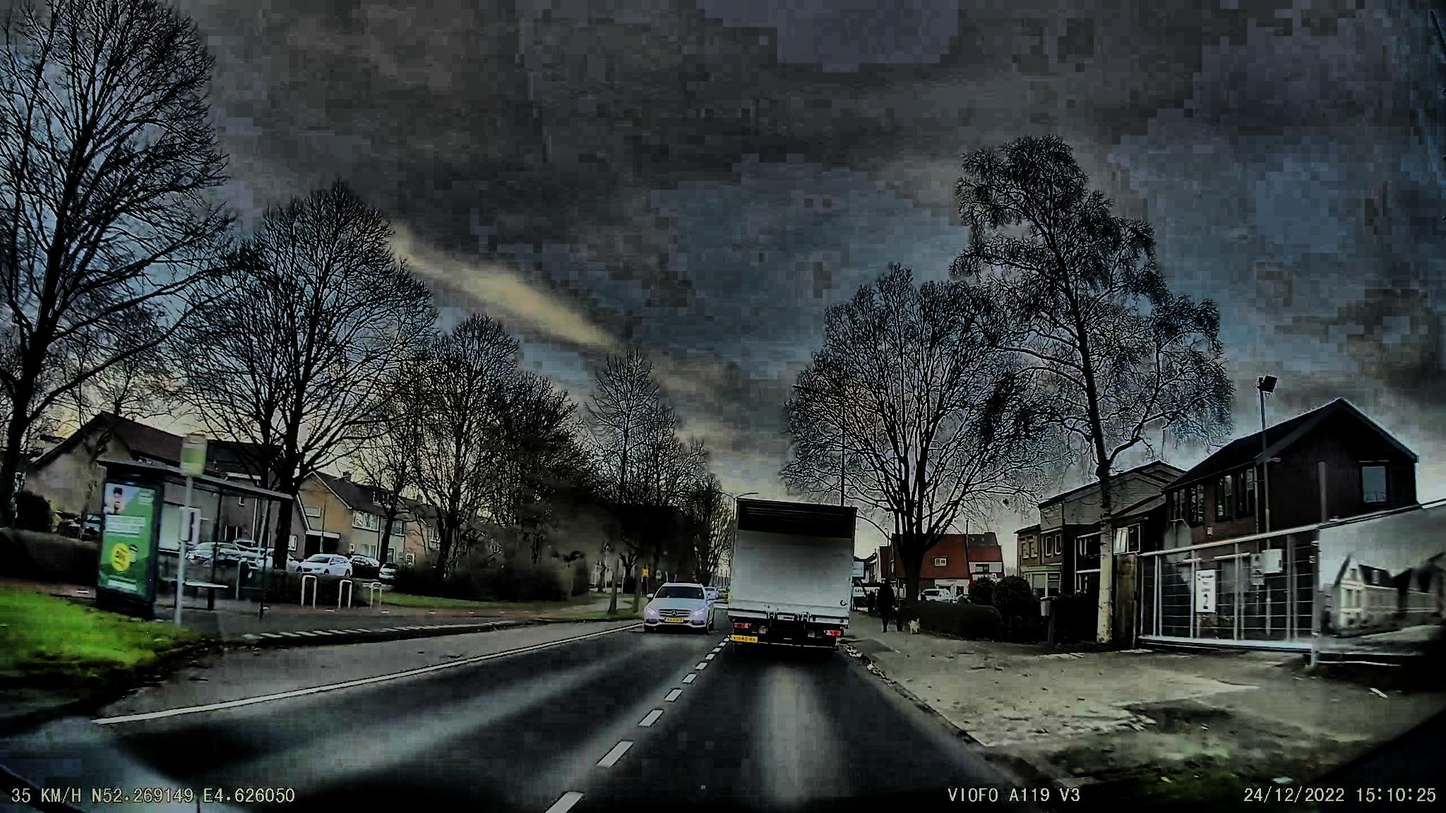Roads: (0, 627, 1095, 813)
